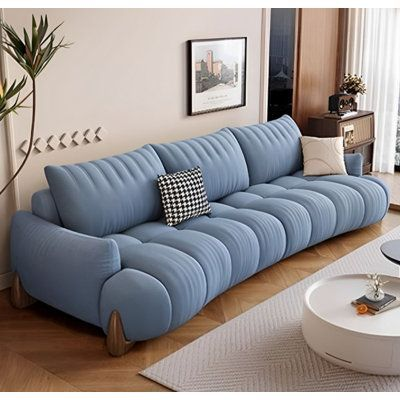3seatersofa: (12, 115, 388, 353)
backrest: (32, 117, 300, 236)
leftarmrest: (344, 153, 362, 176)
leg: (107, 311, 133, 356), (10, 273, 35, 308)
pillow: (159, 167, 209, 224), (303, 136, 346, 175)
rightarmrest: (12, 211, 120, 325)
seat: (103, 176, 387, 340)
